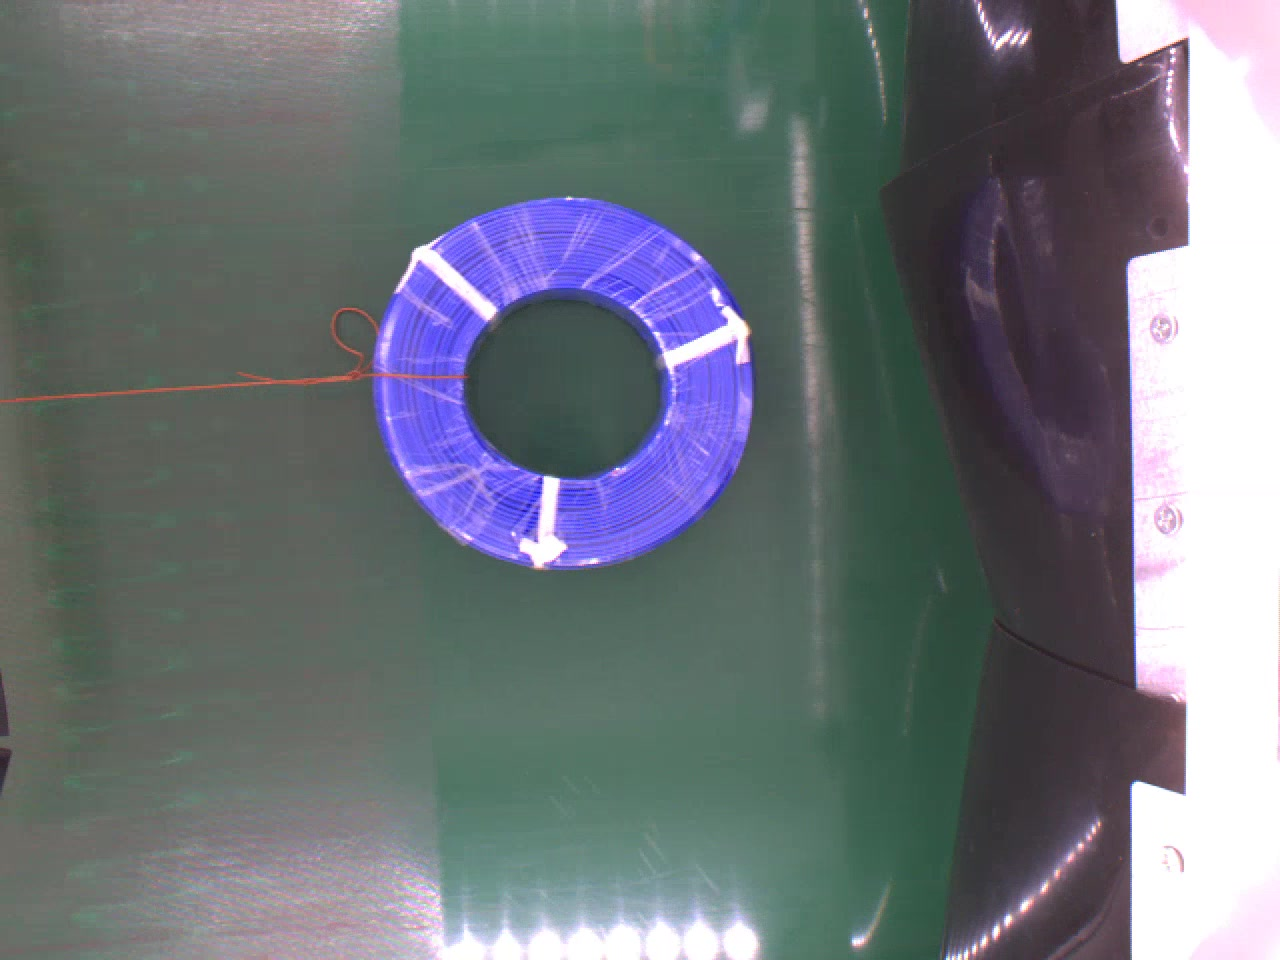blue: (369, 193, 757, 569)
